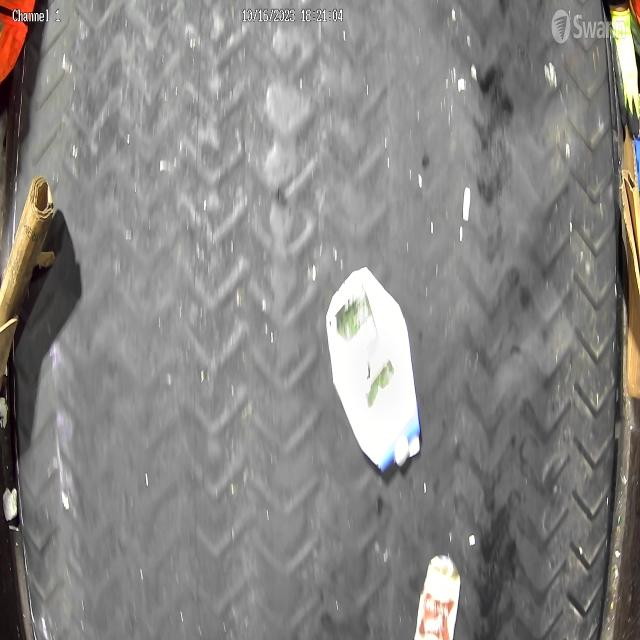can: (414, 554, 460, 640)
milk_jug: (325, 265, 421, 473)
